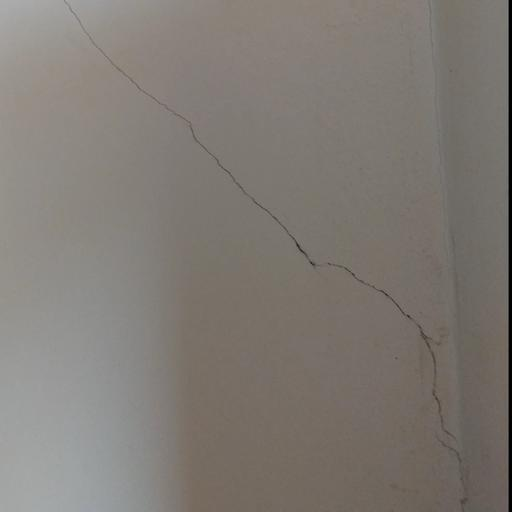minor_crack: (53, 0, 476, 512)
